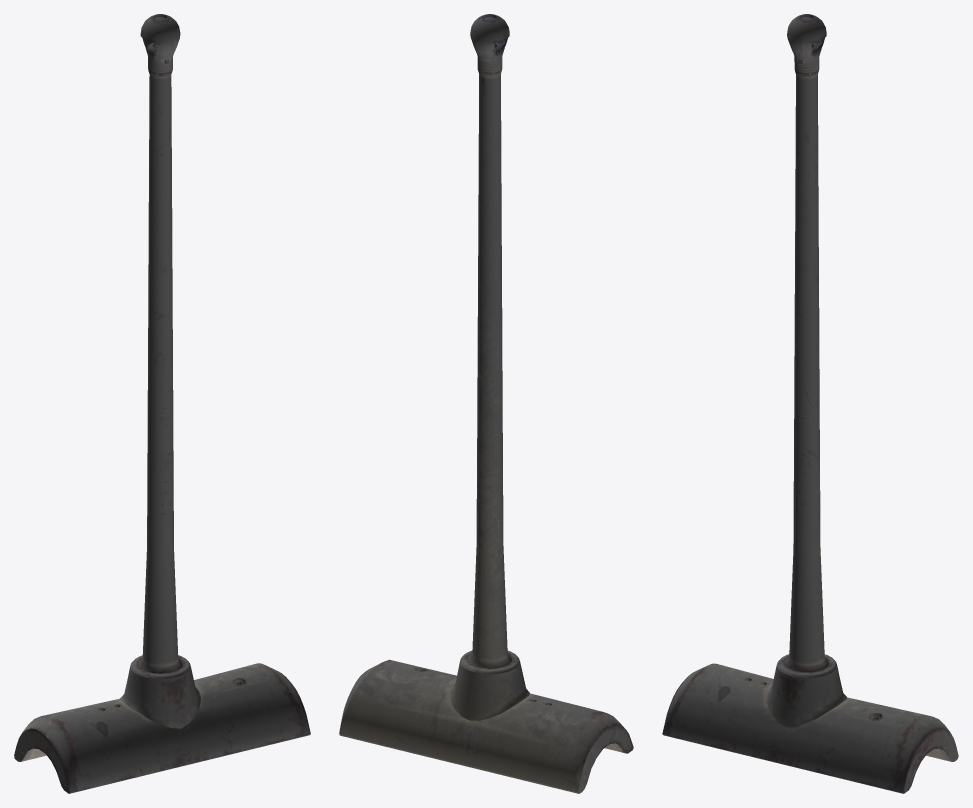
File: Gun_02.glb
3 views of the same model, side by side, from view 1: azimuth 30°, elevation 25°; view 2: azimuth 150°, elevation 25°; view 3: azimuth 330°, elevation 25° (orthographic).
Parts seen in each view (by area): view 1: set_0_group_0; view 2: set_0_group_0; view 3: set_0_group_0.
Boxes of the visible parts, x1,y1,x2,y2 form: set_0_group_0: (14,14,310,793); set_0_group_0: (339,14,633,793); set_0_group_0: (662,14,958,793).
Size of the model in its own units: 1.47 by 4.29 by 0.5914.
1 material, 1 textured.
